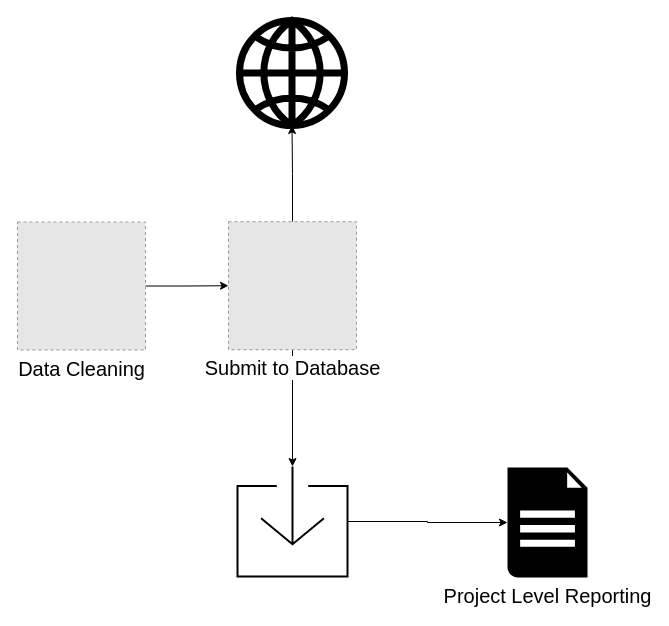
Some shapes in this 669 by 626 pixel diagram are drawn without their labels. Grey dashed boxes stand in for pictures. The shapes that lost their labels are listed below. From the top down, each one's centre as x and y in pixels, then its label:
pixel 292 72: Global Research
pixel 292 521: Download Results
